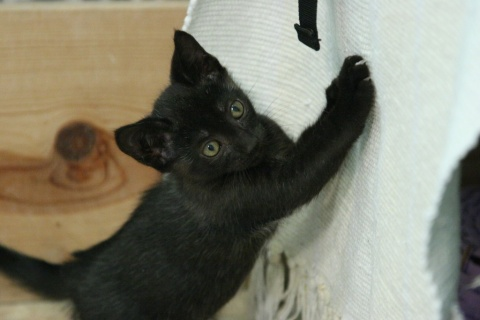Cat: (0, 26, 375, 319)
